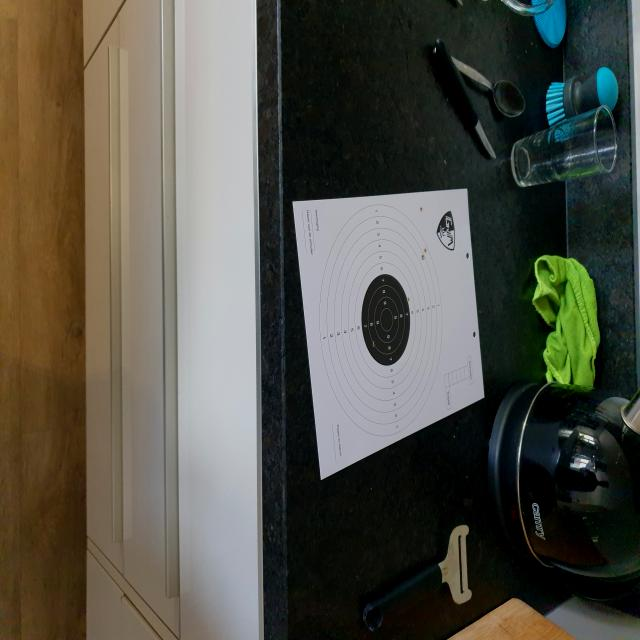0: (420, 207, 423, 212)
1: (424, 248, 427, 253)
2: (422, 255, 424, 260)
7: (407, 297, 410, 302)
8: (373, 341, 376, 348)
Target: (318, 204, 442, 439)
black_contour: (361, 275, 410, 366)
